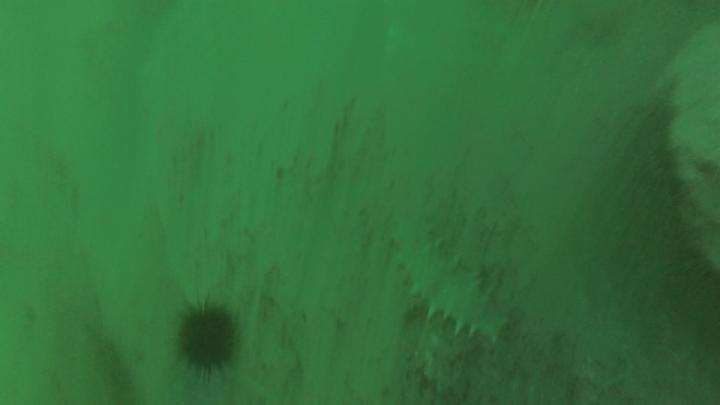echinus: (165, 292, 253, 392)
holothurian: (387, 208, 514, 345)
